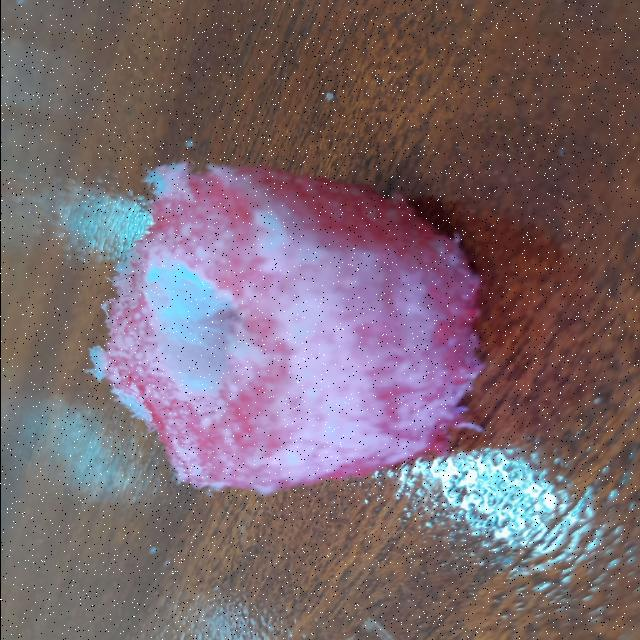trailer: (84, 160, 482, 496)
